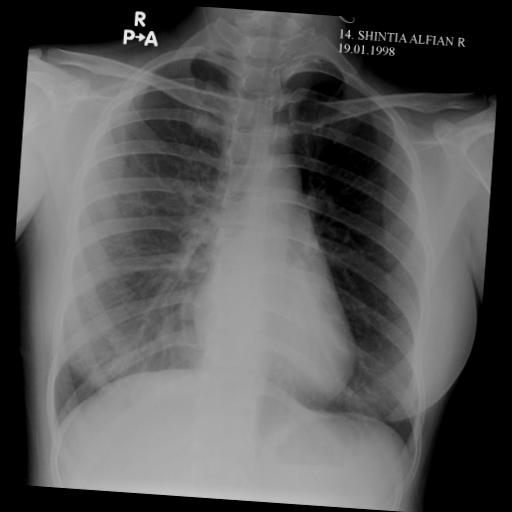normal: (45, 13, 455, 476)
